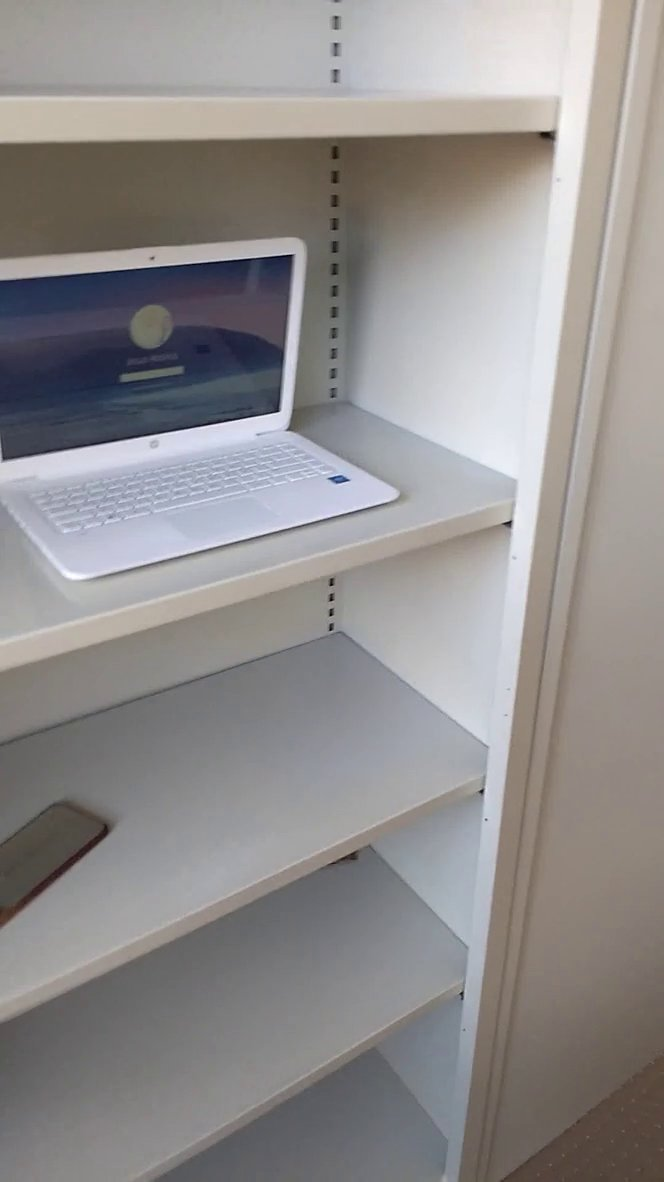laptop: (1, 202, 416, 601)
